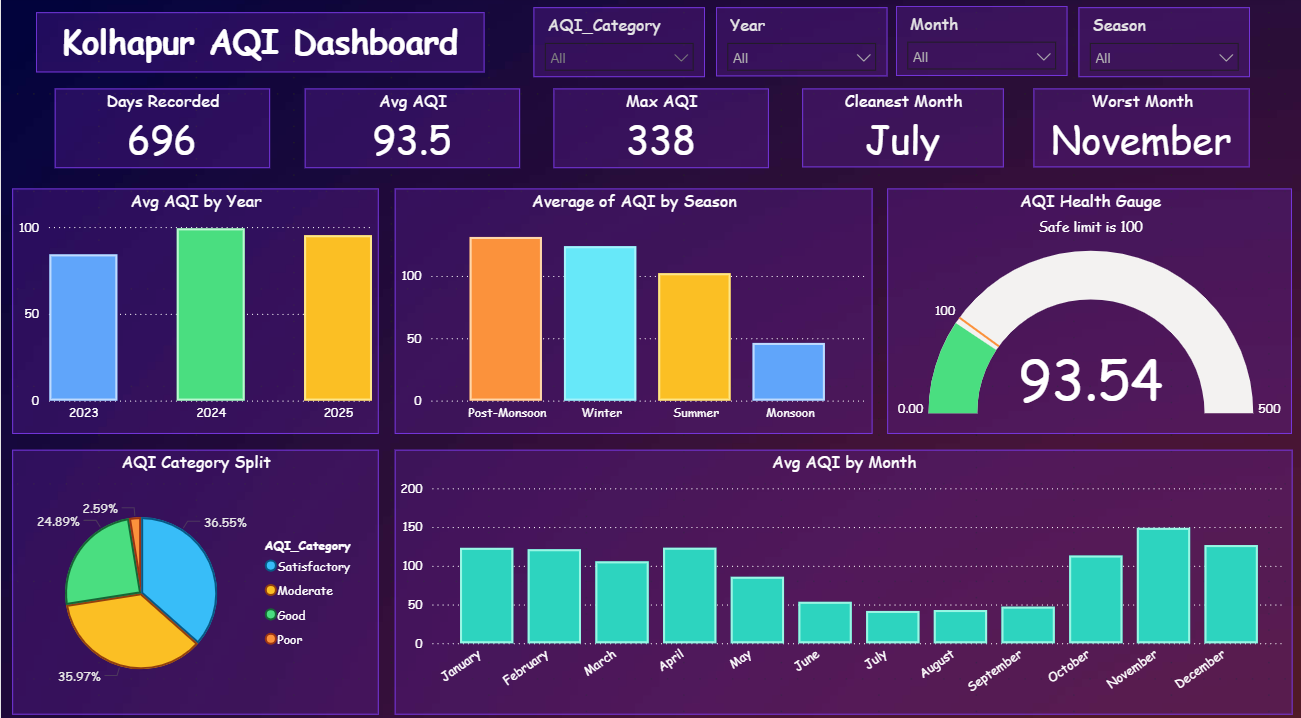

The page's visual inventory and layout, read from the dashboard file:
{"tool":"powerbi","page":{"name":"Page 1","canvas":[1280,720],"ordinal":0},"visuals":[{"type":"slicer","fields":{"Values":["cleaned_kolhapur_aqi.Year"]},"box":[704,11.1,168.6,67.7],"z":0},{"type":"slicer","fields":{"Values":["cleaned_kolhapur_aqi.Season"]},"box":[1060.9,11.1,168.6,68.9],"z":1000},{"type":"slicer","fields":{"Values":["cleaned_kolhapur_aqi.Month"]},"box":[881.2,9.8,168.6,68.9],"z":2000},{"type":"slicer","fields":{"Values":["cleaned_kolhapur_aqi.AQI_Category"]},"box":[524.3,11.1,168.6,68.9],"z":3000},{"type":"textbox","box":[34.5,16,441.8,59.1],"z":4000},{"type":"card","title":"Avg AQI","fields":{"Values":["Avg(cleaned_kolhapur_aqi.AQI)"]},"box":[299.1,91.1,211.7,78.8],"z":5000},{"type":"card","title":"Max AQI","fields":{"Values":["Max(cleaned_kolhapur_aqi.AQI)"]},"box":[544,91.1,211.7,78.8],"z":6000},{"type":"card","title":"Cleanest Month","fields":{"Values":["cleaned_kolhapur_aqi.Cleanest Month"]},"box":[788.9,91.1,198.2,77.5],"z":7000},{"type":"card","title":"Days Recorded","fields":{"Values":["CountNonNull(cleaned_kolhapur_aqi.Date)"]},"box":[52.9,91.1,211.7,78.8],"z":8000},{"type":"clusteredColumnChart","title":"Avg AQI by Month","fields":{"Y":["Avg(cleaned_kolhapur_aqi.AQI)"],"Category":["cleaned_kolhapur_aqi.Month"]},"box":[387.7,446.8,883.7,260.9],"z":9000},{"type":"pieChart","title":"AQI Category Split","fields":{"Category":["cleaned_kolhapur_aqi.AQI_Category"],"Y":["CountNonNull(cleaned_kolhapur_aqi.Date)"]},"box":[11.1,446.8,360.6,260.9],"z":10000},{"type":"clusteredColumnChart","fields":{"Y":["Avg(cleaned_kolhapur_aqi.AQI)"],"Category":["cleaned_kolhapur_aqi.Season"]},"box":[387.7,189.5,470.2,241.2],"z":11000},{"type":"clusteredColumnChart","title":"Avg AQI by Year","fields":{"Category":["cleaned_kolhapur_aqi.Year"],"Y":["Avg(cleaned_kolhapur_aqi.AQI)"]},"box":[11.1,189.5,360.6,241.2],"z":12000},{"type":"gauge","title":"AQI Health Gauge","fields":{"Y":["cleaned_kolhapur_aqi.Avg AQI"],"MaxValue":["cleaned_kolhapur_aqi.Max AQI Limit"],"TargetValue":["cleaned_kolhapur_aqi.Safe AQI Limit"]},"box":[872.6,189.5,398.8,241.2],"z":13000},{"type":"card","title":"Worst Month","fields":{"Values":["cleaned_kolhapur_aqi.Worst Month"]},"box":[1016.6,91.1,212.9,77.5],"z":14000}]}

Visuals, with their boxes in screenshot pixels (x1, y1, x2, y2), scaled from the page's 1280x720 canvas onto the 1301x718 screenshot:
slicer - cleaned_kolhapur_aqi.Year: bbox=(716, 11, 887, 79)
slicer - cleaned_kolhapur_aqi.Season: bbox=(1078, 11, 1250, 80)
slicer - cleaned_kolhapur_aqi.Month: bbox=(896, 10, 1067, 78)
slicer - cleaned_kolhapur_aqi.AQI_Category: bbox=(533, 11, 704, 80)
textbox: bbox=(35, 16, 484, 75)
"Avg AQI" card: bbox=(304, 91, 519, 169)
"Max AQI" card: bbox=(553, 91, 768, 169)
"Cleanest Month" card: bbox=(802, 91, 1003, 168)
"Days Recorded" card: bbox=(54, 91, 269, 169)
"Avg AQI by Month" clusteredColumnChart: bbox=(394, 446, 1292, 706)
"AQI Category Split" pieChart: bbox=(11, 446, 378, 706)
clusteredColumnChart - Avg(cleaned_kolhapur_aqi.AQI) x cleaned_kolhapur_aqi.Season: bbox=(394, 189, 872, 430)
"Avg AQI by Year" clusteredColumnChart: bbox=(11, 189, 378, 430)
"AQI Health Gauge" gauge: bbox=(887, 189, 1292, 430)
"Worst Month" card: bbox=(1033, 91, 1250, 168)
